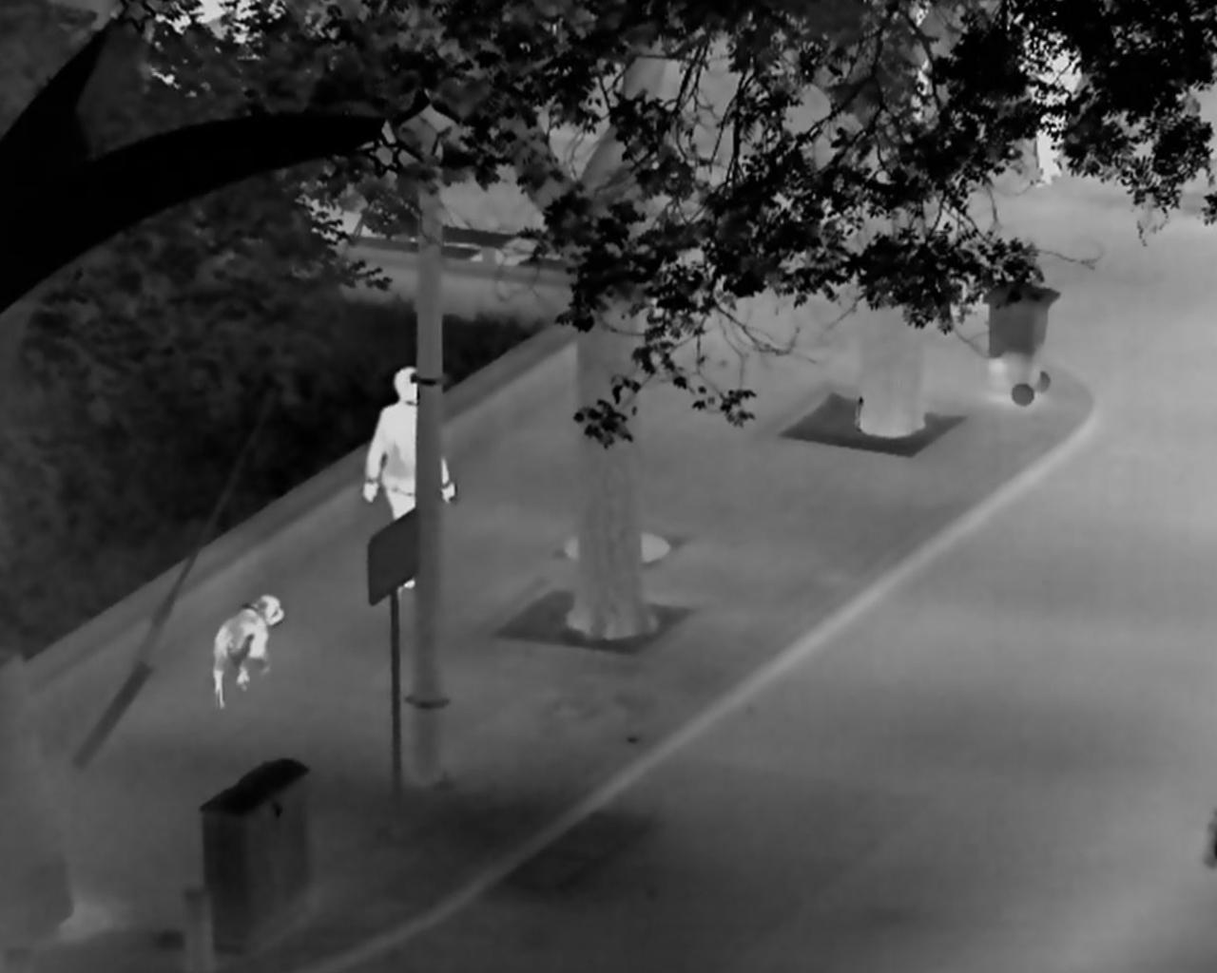person: (362, 365, 457, 589)
